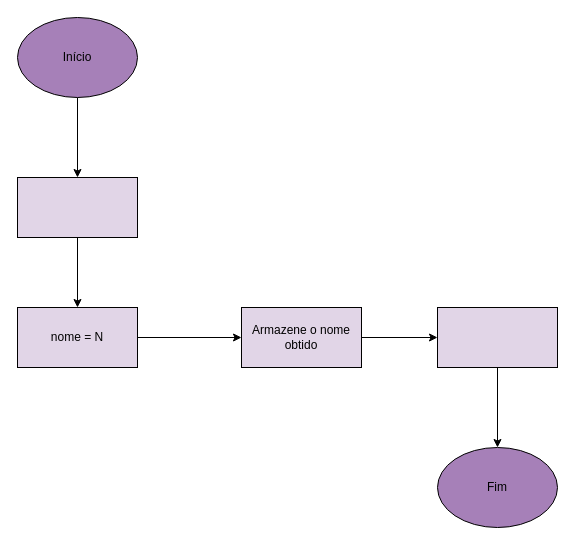
The diagram is 575 pixels wide and 545 high, and some of its shapes have lost their labels. Here are the shapes that lost their labels. From the top down, the centre of each, then its label:
[77,207]: Solicitar o nome do usuário
[497,337]: Exibir a mensagem "Olá, N!"
